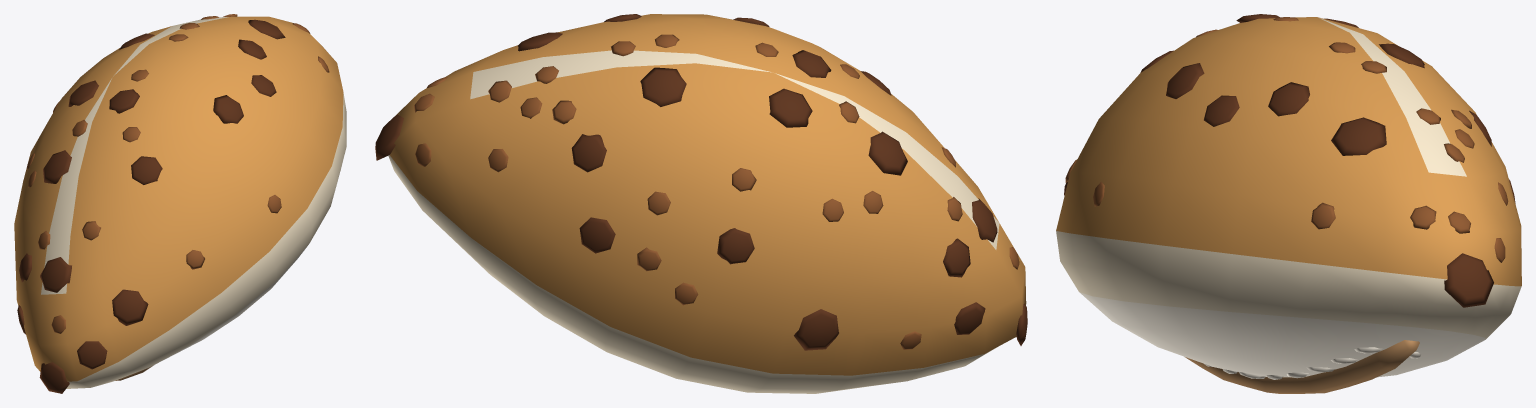
Rendered from concha-buzio.glb.
The picture shows the model from 3 angles, left to right: view 1: azimuth 30°, elevation 25°; view 2: azimuth 150°, elevation 25°; view 3: azimuth 270°, elevation 25°; orthographic projection. The views are drawn at different scales.
Visible parts, largest first — view 1: concha-buzio; view 2: concha-buzio; view 3: concha-buzio.
Boxes of the visible parts, x1=… form: concha-buzio: x1=14, y1=14, x2=346, y2=393; concha-buzio: x1=375, y1=14, x2=1027, y2=393; concha-buzio: x1=1056, y1=14, x2=1521, y2=393.
Size of the model in its own units: 0.0801 by 0.0514 by 0.0594.
